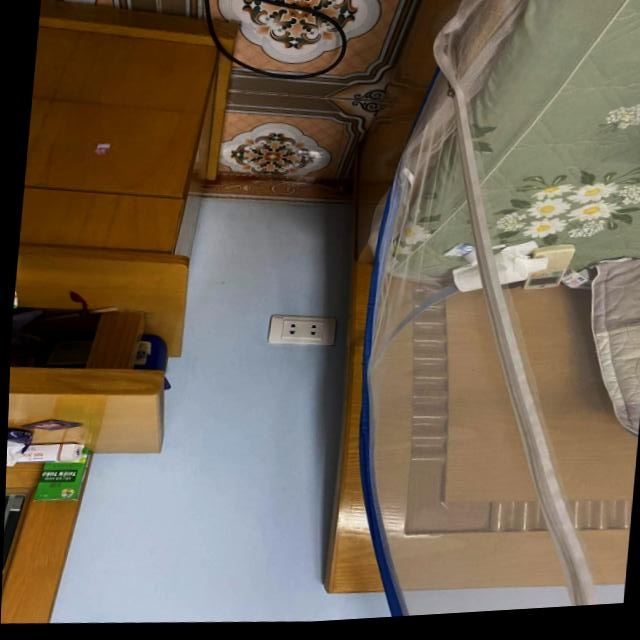outlet: (266, 311, 337, 351)
